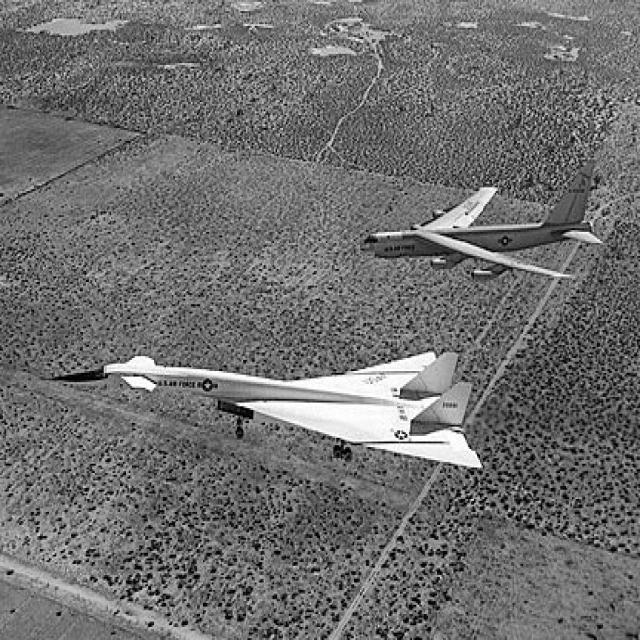MIL_Plane: (41, 349, 483, 469), (334, 141, 584, 261)
